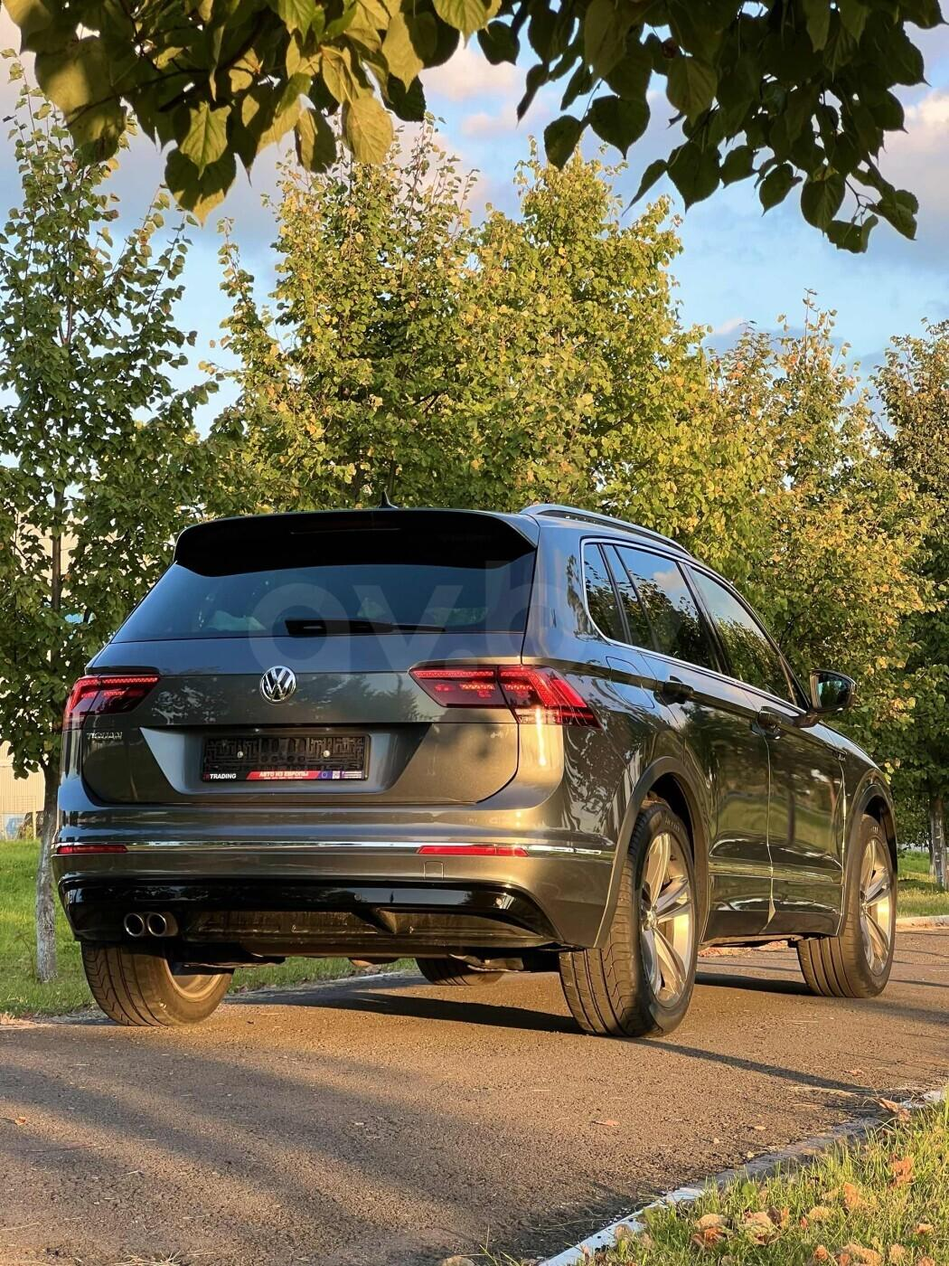Tiguan_2020-2024: (47, 503, 911, 1035)
